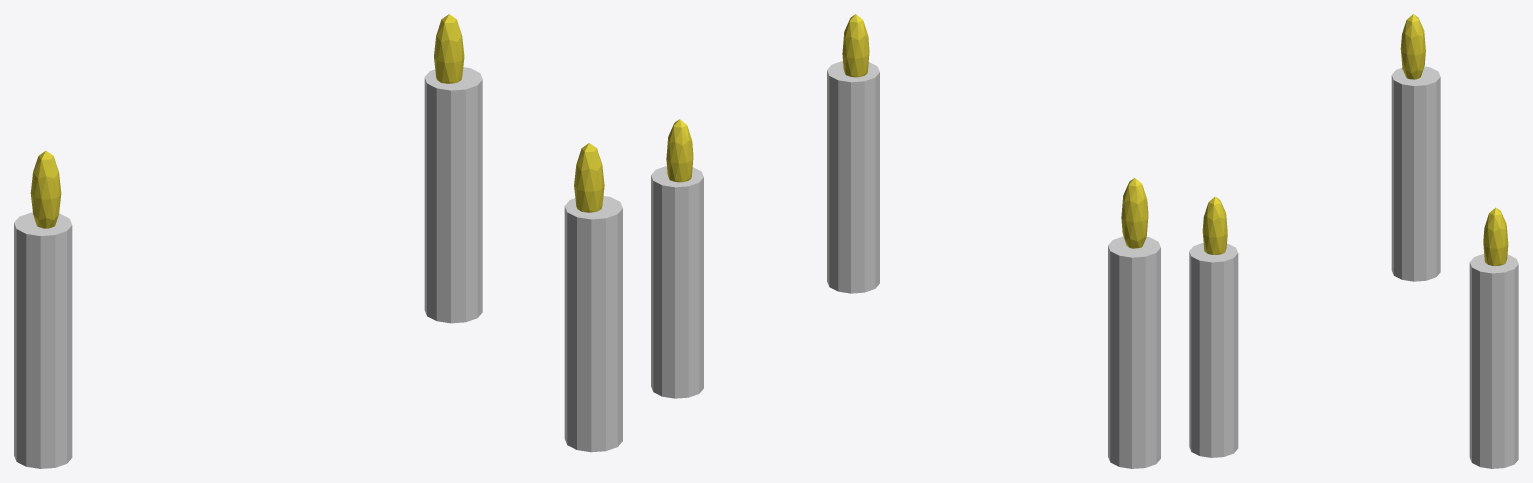
The model's file is basic candle.glb.
3 views of the same model, side by side, from view 1: azimuth 30°, elevation 25°; view 2: azimuth 150°, elevation 25°; view 3: azimuth 270°, elevation 25° (orthographic). The views are drawn at different scales.
Visible parts, largest first — view 1: Cylinder.006, Cylinder.008, Cylinder.007, Icosphere, Icosphere.001, Icosphere.002; view 2: Cylinder.006, Cylinder.007, Cylinder.008, Icosphere, Icosphere.002, Icosphere.001; view 3: Cylinder.006, Cylinder.007, Cylinder.008, Icosphere, Icosphere.002, Icosphere.001.
Boxes of the visible parts, x1=… form: Cylinder.006: x1=14, y1=212, x2=72, y2=468; Cylinder.008: x1=424, y1=67, x2=482, y2=323; Cylinder.007: x1=564, y1=196, x2=622, y2=452; Icosphere: x1=30, y1=151, x2=61, y2=228; Icosphere.001: x1=574, y1=143, x2=604, y2=212; Icosphere.002: x1=434, y1=14, x2=464, y2=83; Cylinder.006: x1=1108, y1=236, x2=1160, y2=468; Cylinder.007: x1=827, y1=61, x2=879, y2=293; Cylinder.008: x1=651, y1=166, x2=703, y2=398; Icosphere: x1=1121, y1=178, x2=1148, y2=248; Icosphere.002: x1=666, y1=119, x2=693, y2=182; Icosphere.001: x1=842, y1=14, x2=869, y2=77; Cylinder.006: x1=1391, y1=66, x2=1440, y2=281; Cylinder.007: x1=1189, y1=242, x2=1238, y2=457; Cylinder.008: x1=1469, y1=254, x2=1518, y2=468; Icosphere: x1=1400, y1=14, x2=1425, y2=79; Icosphere.002: x1=1483, y1=207, x2=1508, y2=265; Icosphere.001: x1=1202, y1=196, x2=1227, y2=254.
Size of the model in its own units: 0.4147 by 0.2397 by 0.2777.
